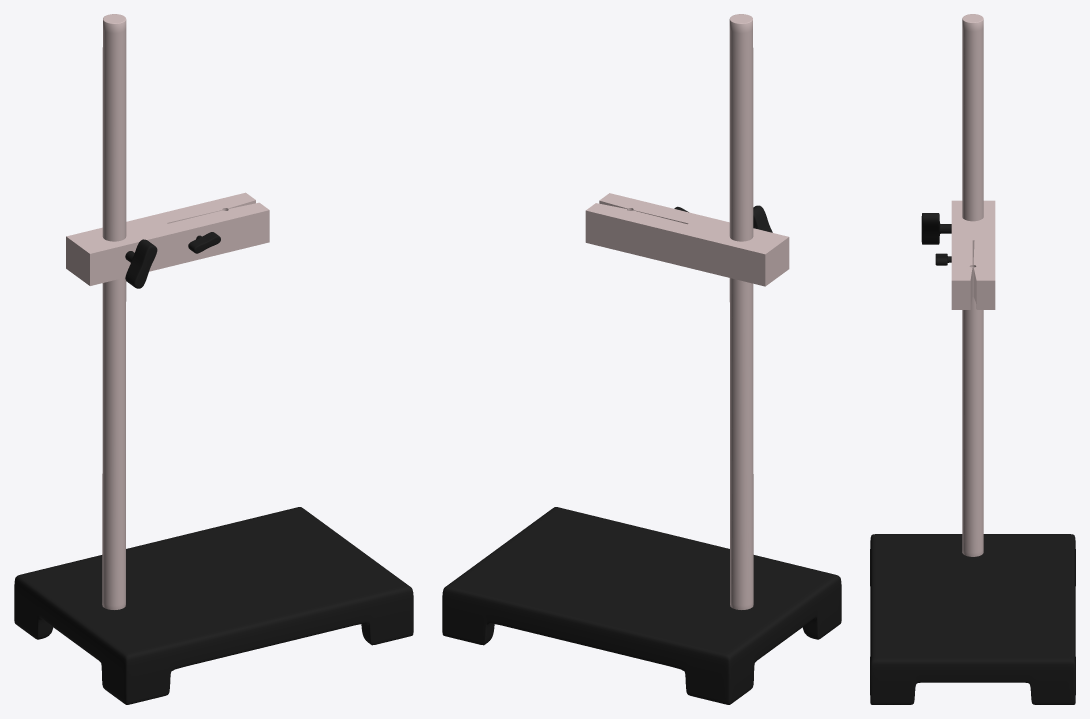
The model's file is Stand.fbx.
3 views of the same model, side by side, from view 1: azimuth 30°, elevation 25°; view 2: azimuth 150°, elevation 25°; view 3: azimuth 270°, elevation 25° (orthographic). The views are drawn at different scales.
Visible parts, largest first — view 1: polySurface2, polySurface1, pCube4, polySurface5; view 2: polySurface2, polySurface1, pCube4; view 3: polySurface2, polySurface1, pCube4, polySurface5.
Part boxes in pixels (box(x1,y1,x2,y2)): polySurface2: box(14, 507, 413, 704); polySurface1: box(102, 14, 126, 609); pCube4: box(66, 192, 269, 285); polySurface5: box(125, 239, 157, 288); polySurface2: box(442, 507, 841, 704); polySurface1: box(729, 14, 753, 609); pCube4: box(585, 193, 789, 286); polySurface2: box(870, 534, 1075, 704); polySurface1: box(962, 14, 983, 556); pCube4: box(951, 200, 995, 309); polySurface5: box(921, 213, 951, 244).
Bounding box in the file's own units: 24.91 × 52.44 × 16.89.
